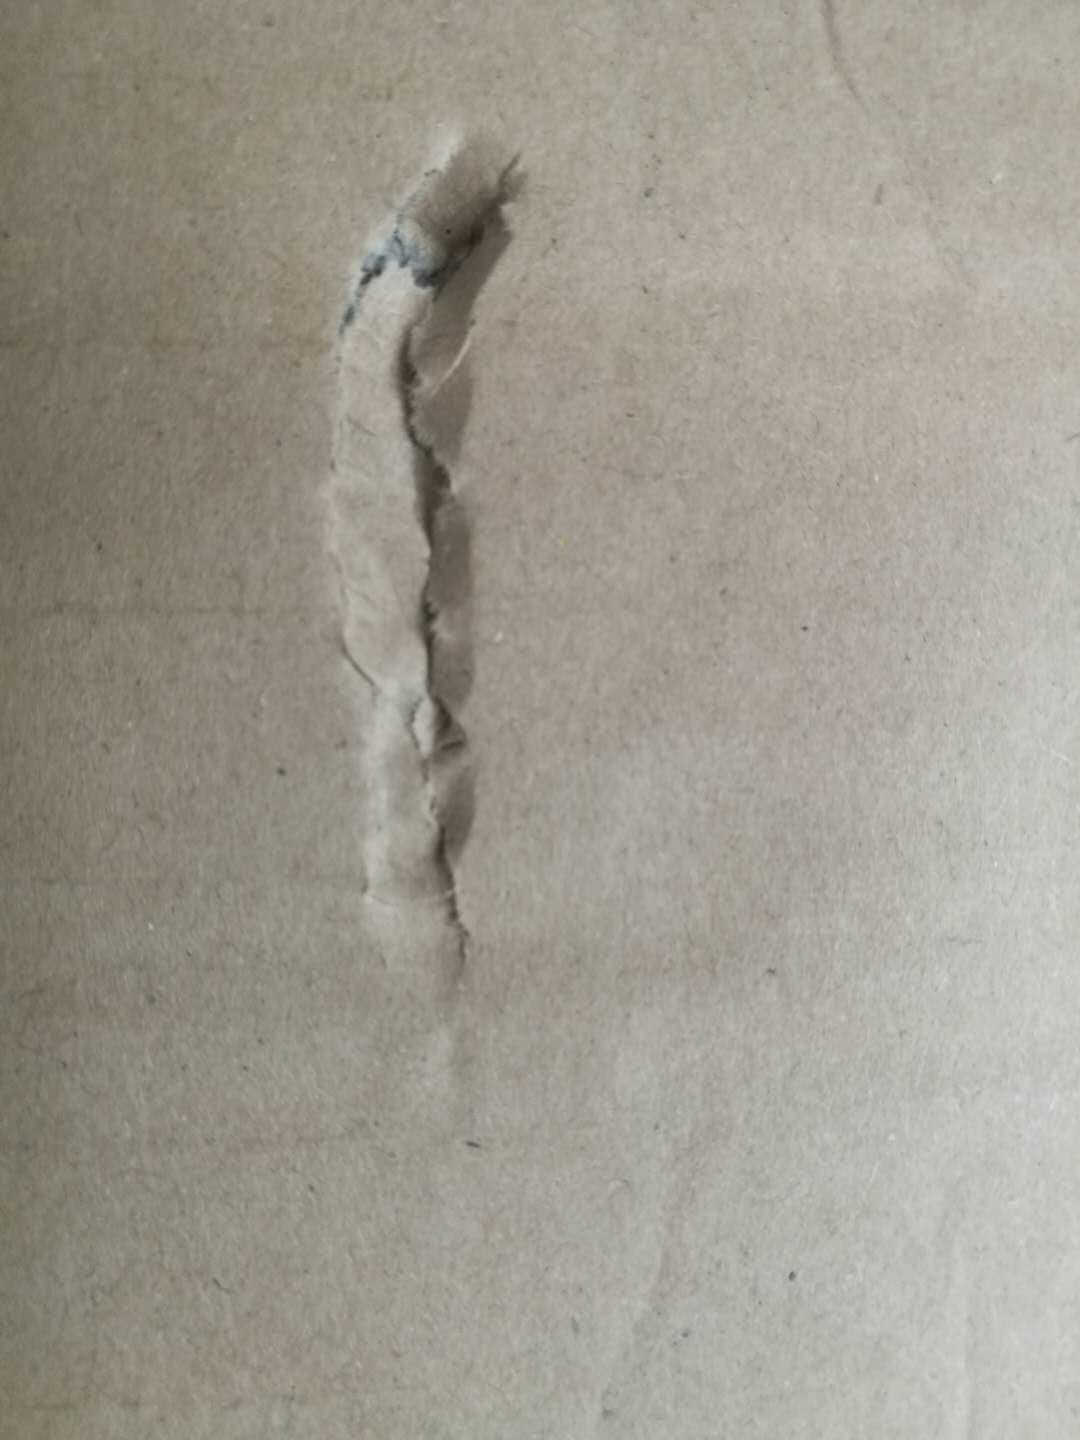defect: (285, 84, 583, 1181), (568, 1135, 723, 1438), (926, 1242, 1002, 1440), (803, 5, 880, 118)
